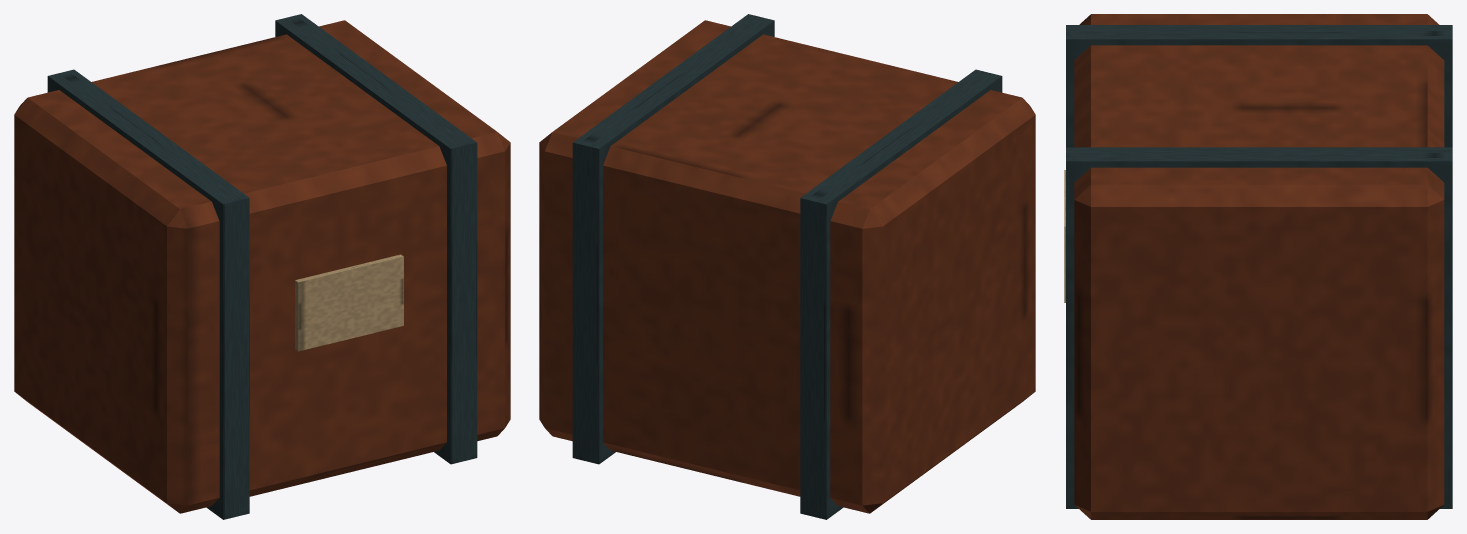
The model's file is crate.glb.
The picture shows the model from 3 angles, left to right: view 1: azimuth 30°, elevation 25°; view 2: azimuth 150°, elevation 25°; view 3: azimuth 270°, elevation 25°; orthographic projection. The views are drawn at different scales.
Visible parts, largest first — view 1: crate_rust.010, crate_metal.010, crate_pale.010; view 2: crate_rust.010, crate_metal.010; view 3: crate_rust.010, crate_metal.010.
Boxes of the visible parts, x1,y1,x2,y2 form: crate_rust.010: (14, 20, 510, 513); crate_metal.010: (47, 14, 477, 519); crate_pale.010: (295, 254, 403, 351); crate_rust.010: (539, 20, 1035, 513); crate_metal.010: (572, 14, 1002, 519); crate_rust.010: (1074, 14, 1444, 519); crate_metal.010: (1066, 25, 1452, 508).
Bounding box in the file's own units: 1.3 × 1.14 × 1.15.
Materials: 3 (3 with a texture image).
